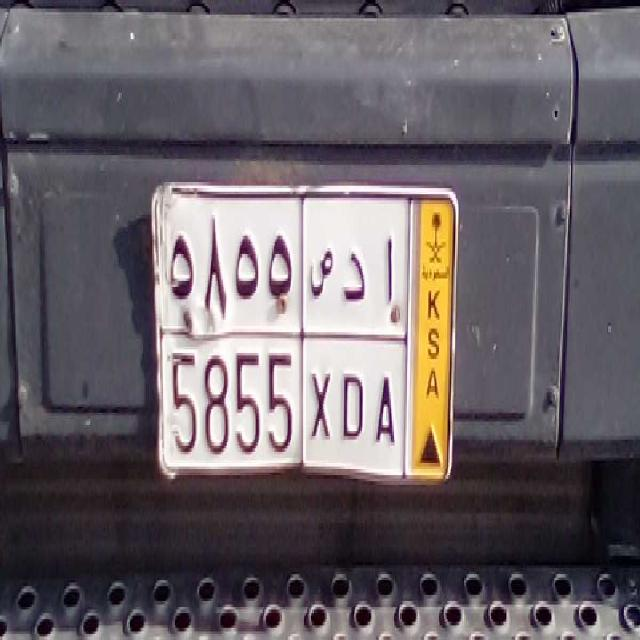license_plate: (158, 324, 404, 476)
